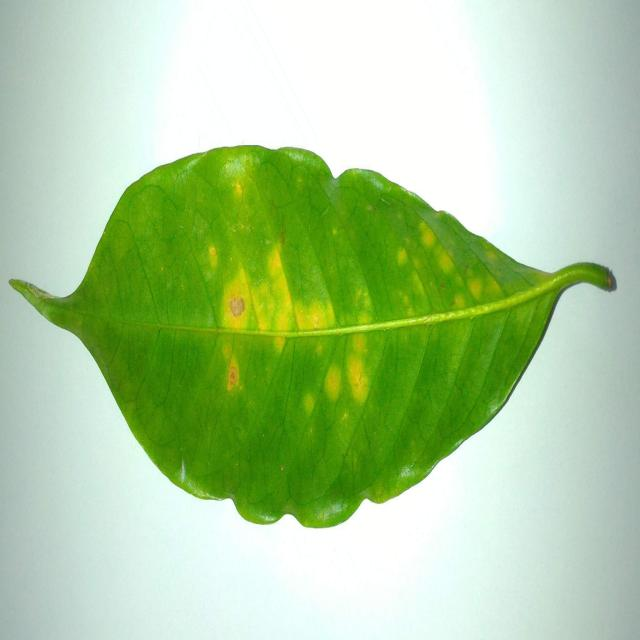rust: (265, 244, 297, 341), (222, 268, 257, 331), (295, 289, 337, 336), (347, 353, 370, 404), (227, 351, 248, 396), (324, 362, 342, 401), (203, 244, 219, 278), (356, 329, 368, 352)
